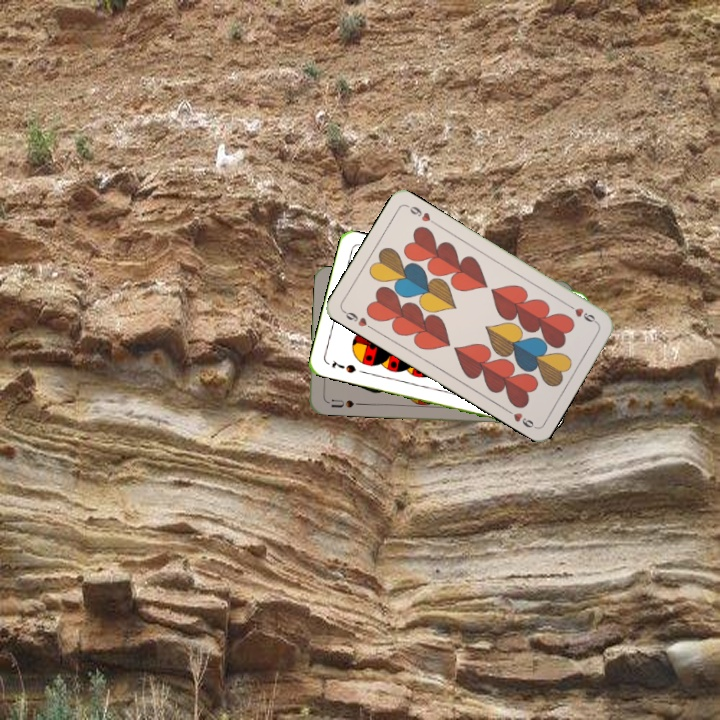H9: (339, 306, 376, 332), (563, 300, 600, 326)
S7: (327, 356, 359, 376)
SU: (327, 395, 356, 410)
